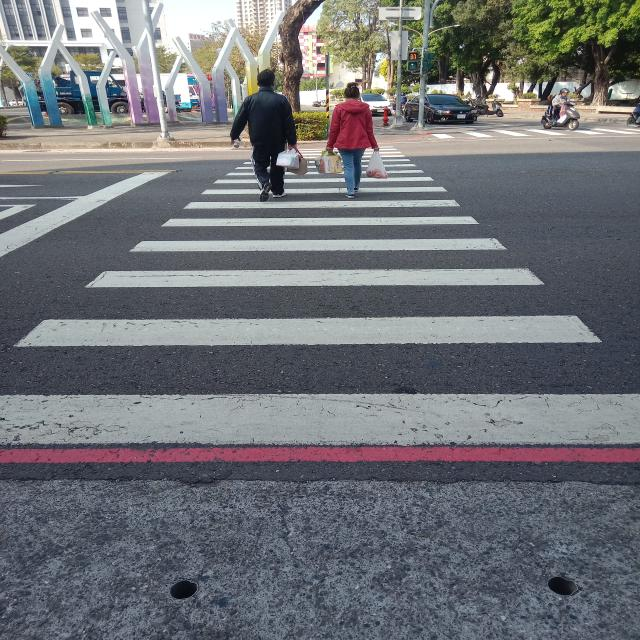zebra_crossing: (130, 77, 640, 210), (179, 90, 541, 267), (136, 95, 408, 288), (269, 69, 527, 220)
